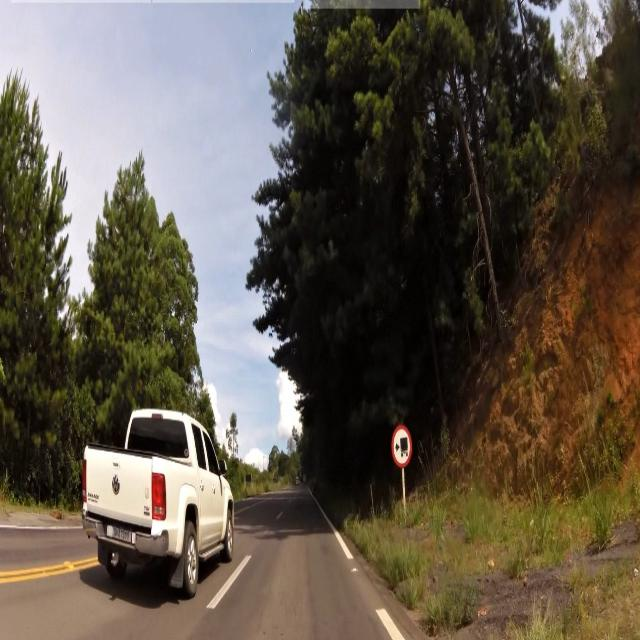R-27: (387, 421, 418, 465)
